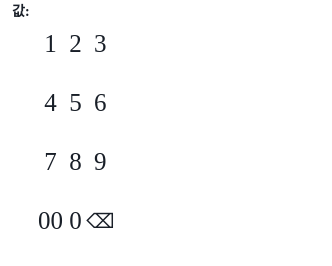
Test: Keypad › 빈 값에서는 누른 숫자가 이어 붙는다
The image size is (332, 266).
Click the button labelled "6": x=100, y=103 [89,75,111,131]
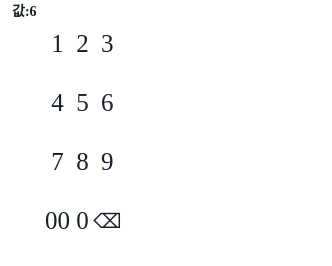
Click the button labelled "1": x=57, y=44 [46,16,68,72]
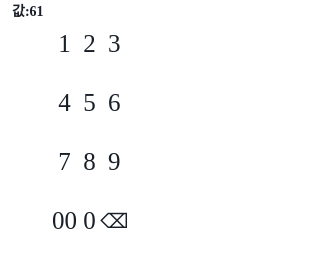
Click the button labelled "00": x=64, y=221 [54,193,75,249]
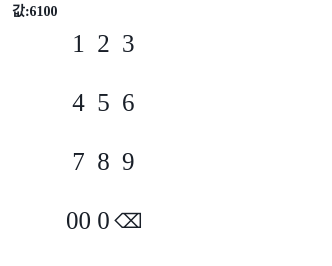
Result: the text "값:6100" is shown at [12,4,58,19]
